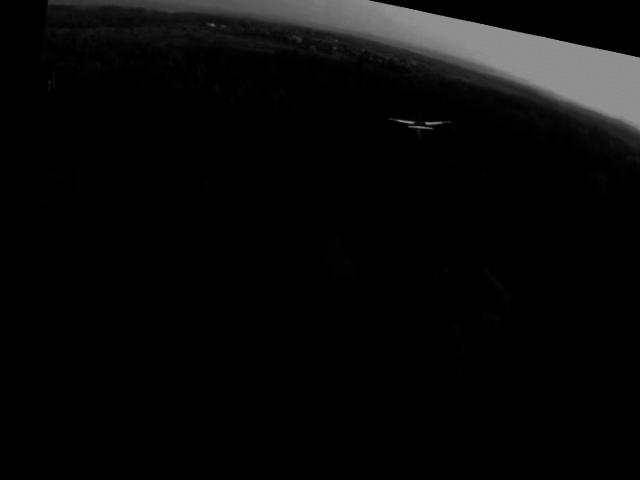hedef: (377, 100, 459, 157)
